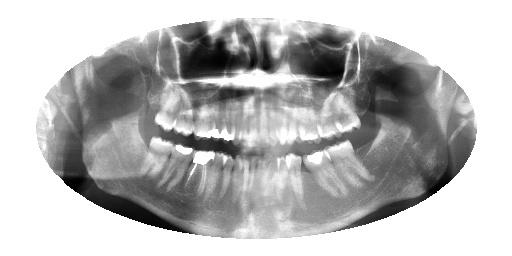Implant: (184, 151, 217, 192)
